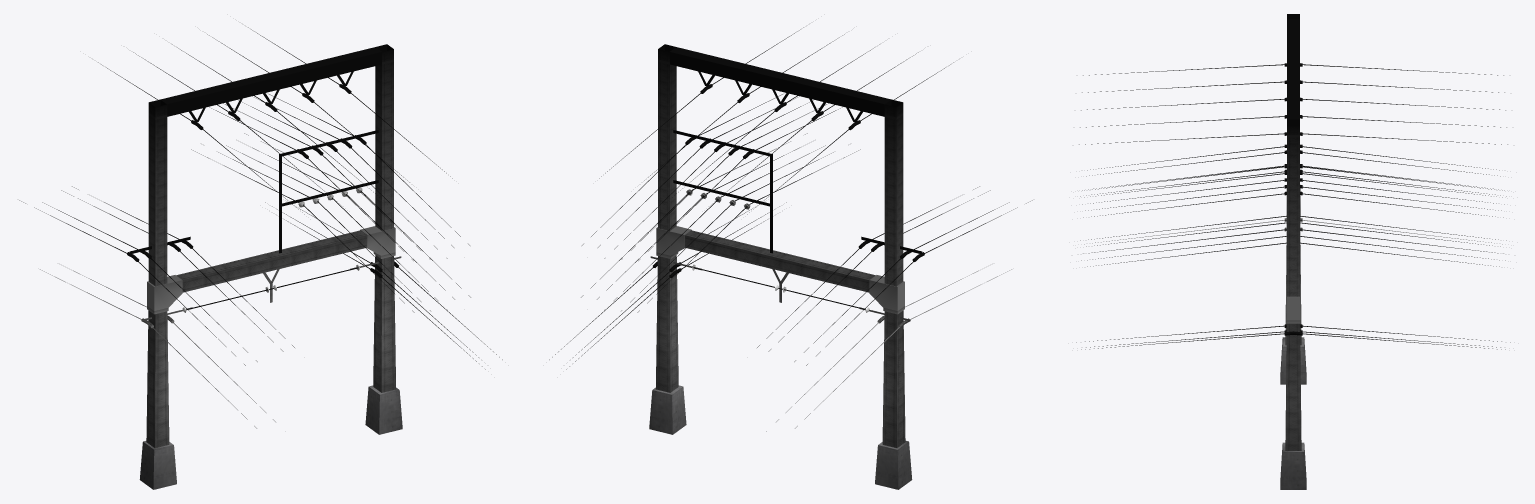
Rendered from KASENCHU_KIN01.glb.
3 views of the same model, side by side, from view 1: azimuth 30°, elevation 25°; view 2: azimuth 150°, elevation 25°; view 3: azimuth 270°, elevation 25° (orthographic). The views are drawn at different scales.
Visible parts, largest first — view 1: Base_Block; view 2: Base_Block; view 3: Base_Block.
Boxes of the visible parts, bbox=[...] form: Base_Block: bbox=[19, 27, 502, 489]; Base_Block: bbox=[549, 27, 1032, 489]; Base_Block: bbox=[1076, 14, 1510, 489].
Bounding box in the file's own units: 33.02 × 43.98 × 50.
5 materials, 5 textured.
